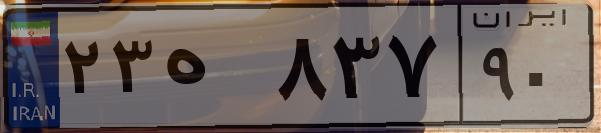0: (525, 38, 570, 115)
2: (57, 26, 110, 100)
3: (330, 28, 385, 110), (110, 28, 158, 98)
7: (385, 28, 445, 110)
8: (270, 28, 330, 110)
9: (475, 38, 525, 113)
ه: (158, 20, 270, 120)
